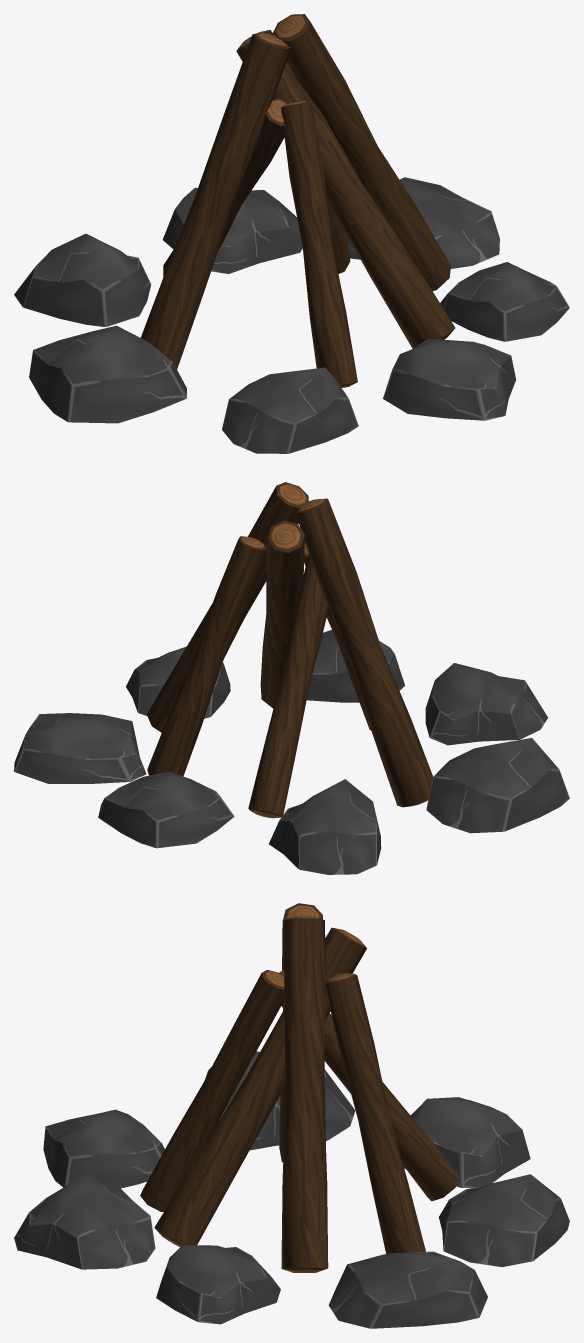
The model's file is bonfire.FBX.
The picture shows the model from 3 angles, top to bottom: view 1: azimuth 30°, elevation 25°; view 2: azimuth 150°, elevation 25°; view 3: azimuth 270°, elevation 25°; orthographic projection. The views are drawn at different scales.
Parts seen in each view (by area): view 1: stick; view 2: stick; view 3: stick.
Part boxes in pixels (x1,y1,x2,y2): stick: [14, 14, 569, 453]; stick: [14, 482, 569, 874]; stick: [14, 903, 569, 1328].
Bounding box in the file's own units: 41.74 × 24.98 × 39.87.
Materials: 1 (1 with a texture image).
